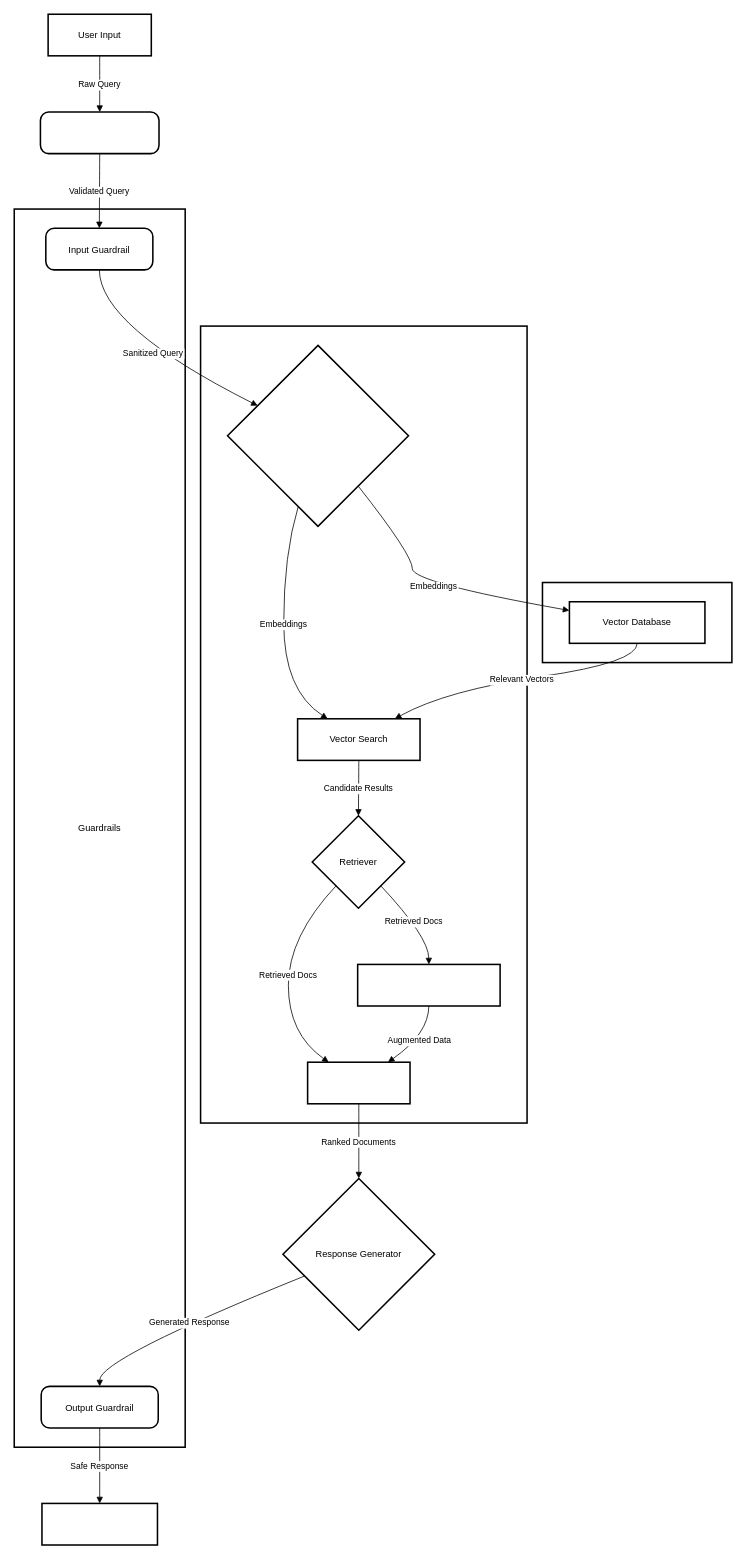
Image size: 745x1558. Some labels were removed from this diagram. The centre of each missing label's shape, as x and y in pixels:
"Final Output" belongs at point (99, 1523).
"Input Component" belongs at point (99, 132).
"Knowledge Graph" belongs at point (428, 984).
"Re-Ranker" belongs at point (358, 1082).
"Vectorization Component" belongs at point (317, 435).
